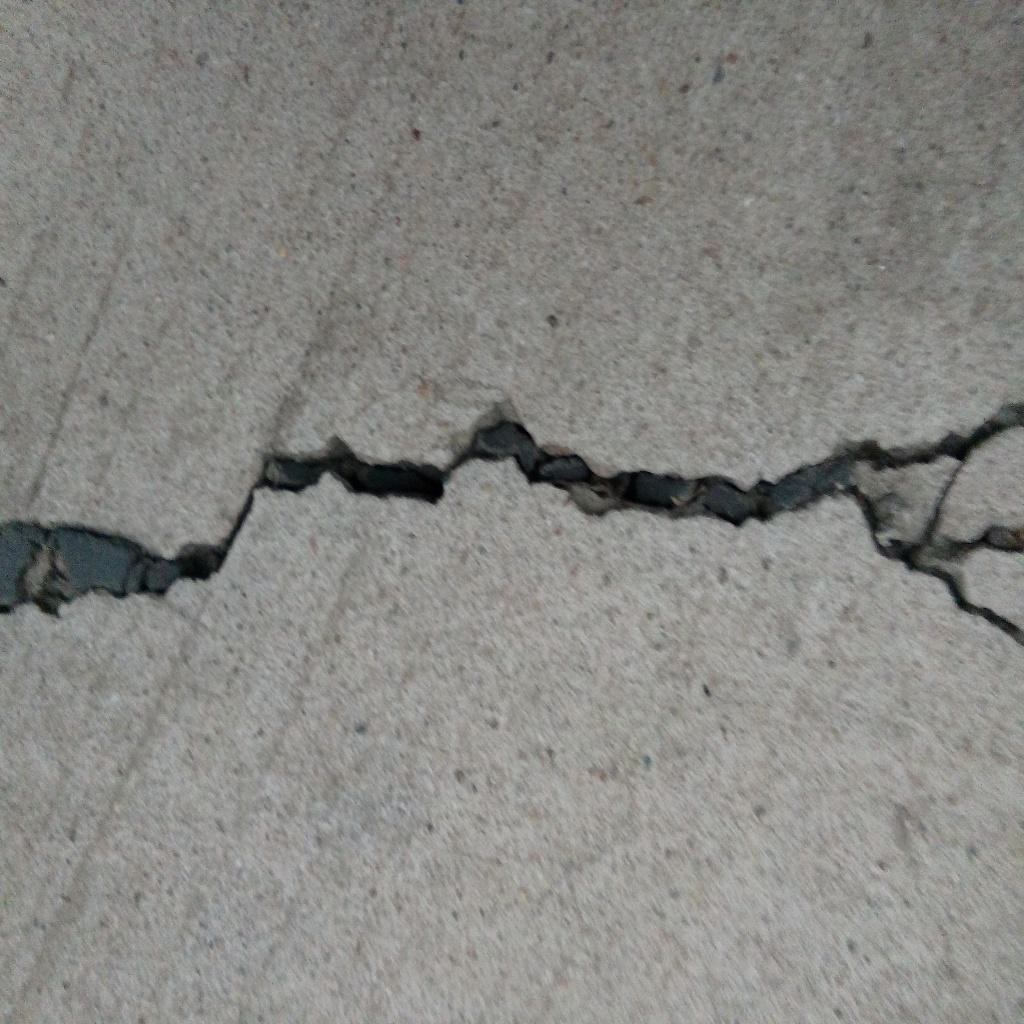Crack: (1, 391, 842, 618)
Spalling: (842, 398, 1024, 651)
